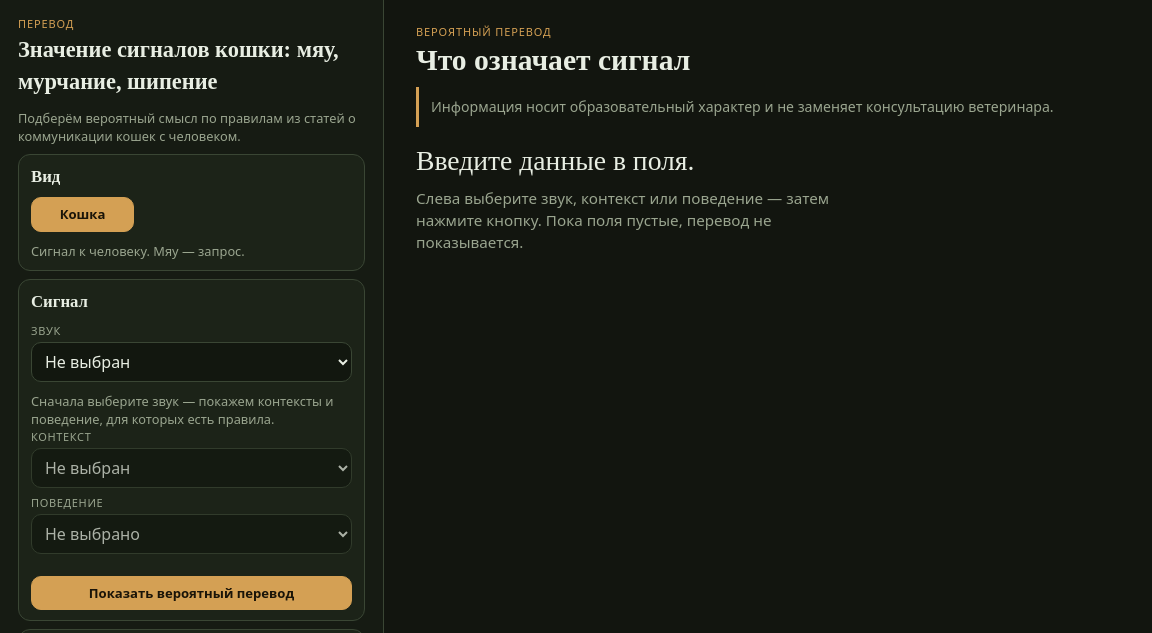
TranslatorView › показывает перевод, функцию, состояние и уверенность
Select "Мяу" in the dropdown labelled "Звук" at (192, 362), box [31,342,352,382]
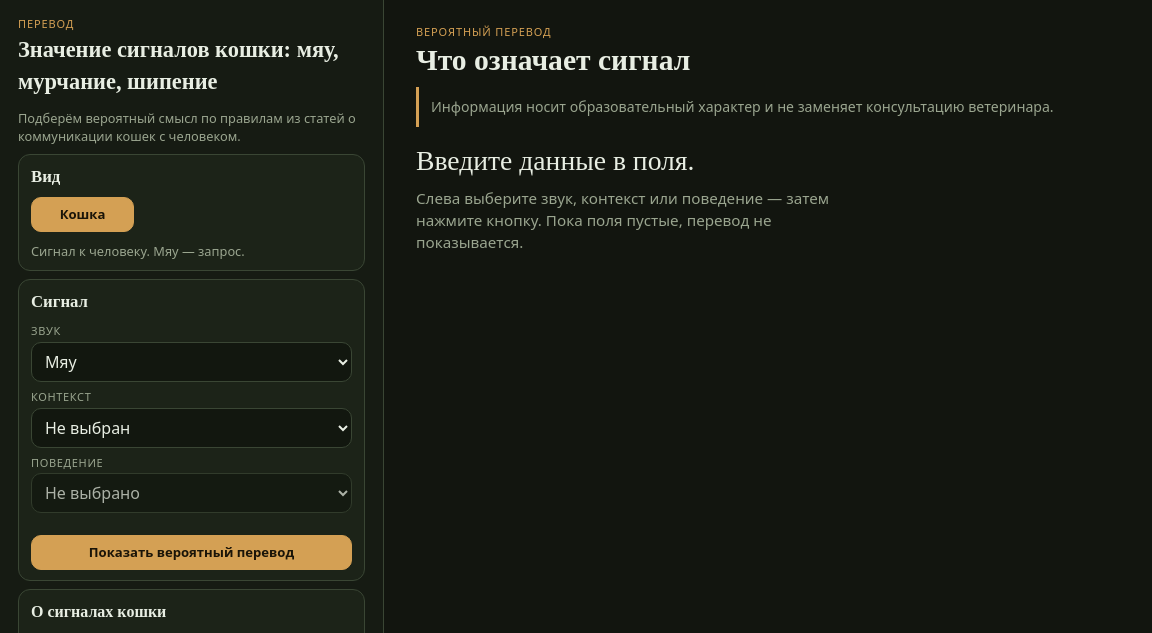
Click the button "Показать вероятный перевод" at (192, 553), box [31,536,352,570]
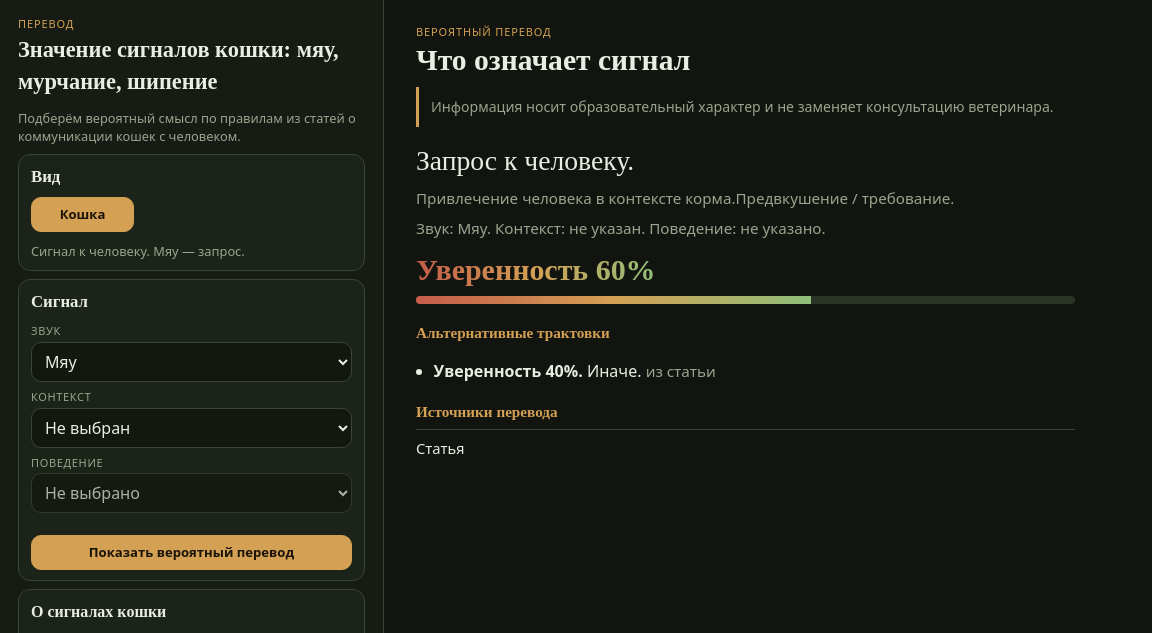
Result: the text "Запрос к человеку." is shown at [416,145,634,176]
Result: the text "Привлечение человека в контексте корма" is shown at [416,188,736,208]
Result: the text "Предвкушение / требование" is shown at [736,188,954,208]
